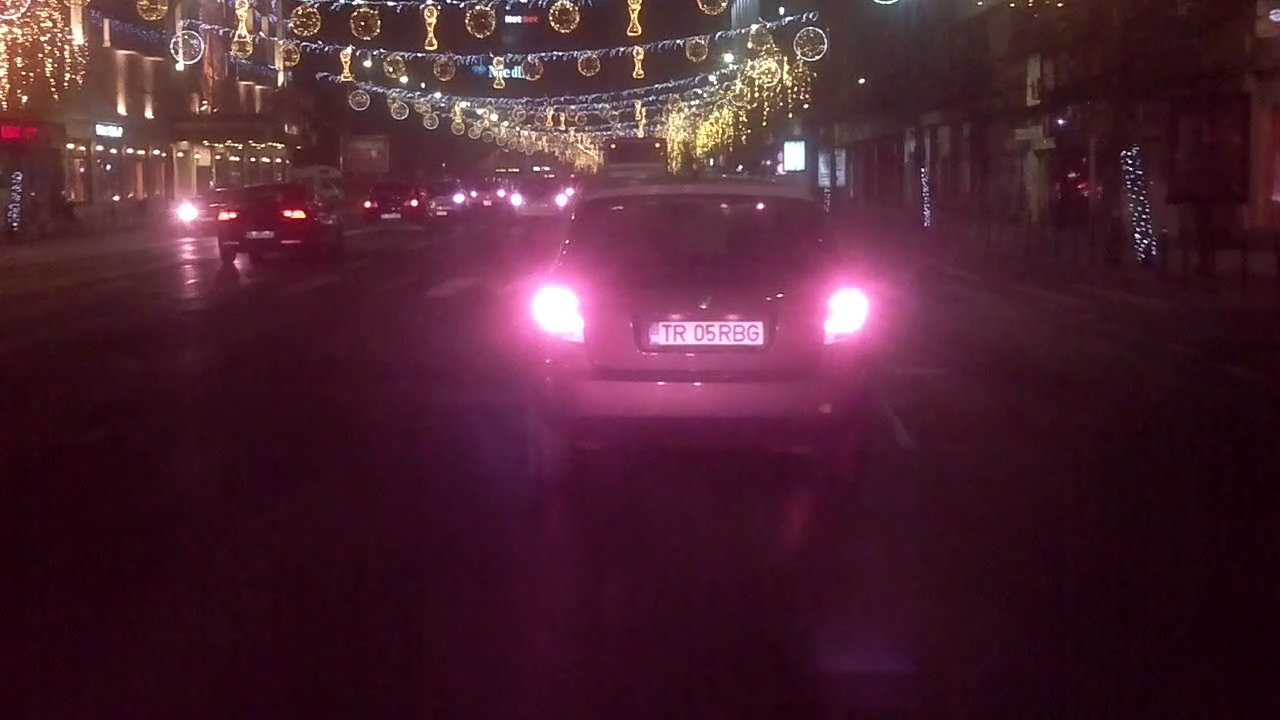license-plate: (640, 314, 767, 350)
